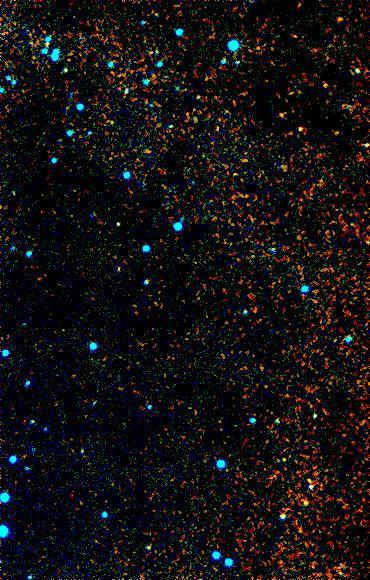star: (324, 5, 354, 35)
